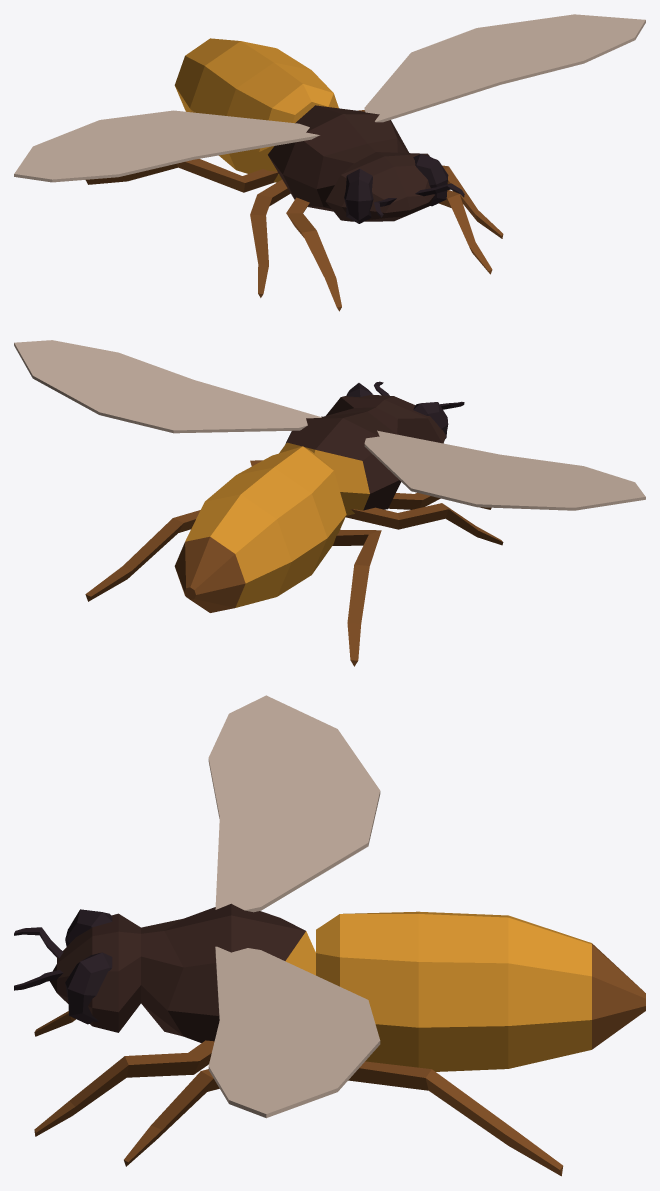
The picture shows the model from 3 angles, top to bottom: view 1: azimuth 30°, elevation 25°; view 2: azimuth 150°, elevation 25°; view 3: azimuth 270°, elevation 25°; orthographic projection. The views are drawn at different scales.
Visible parts, largest first — view 1: Geo_Bee, wing1, wing2; view 2: Geo_Bee, wing1, wing2; view 3: Geo_Bee, wing2, wing1.
Part boxes in pixels (x1=…): Geo_Bee: x1=85, y1=38, x2=503, y2=311; wing1: x1=364, y1=14, x2=645, y2=122; wing2: x1=14, y1=110, x2=319, y2=182; Geo_Bee: x1=85, y1=381, x2=503, y2=666; wing1: x1=14, y1=340, x2=321, y2=433; wing2: x1=364, y1=430, x2=645, y2=510; Geo_Bee: x1=14, y1=903, x2=645, y2=1176; wing2: x1=208, y1=695, x2=380, y2=912; wing1: x1=208, y1=946, x2=380, y2=1118.
Size of the model in its own units: 90.92 by 18.57 by 57.95.
Materials: 2 (1 with a texture image).
